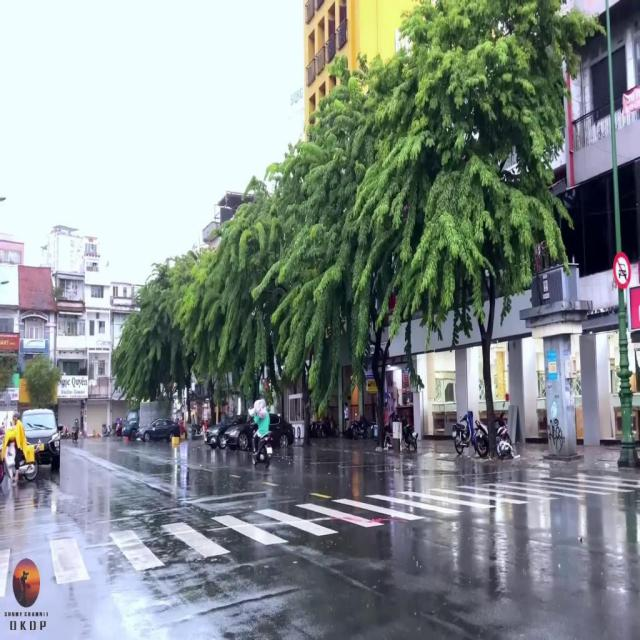cam_o_to: (613, 252, 631, 289)
